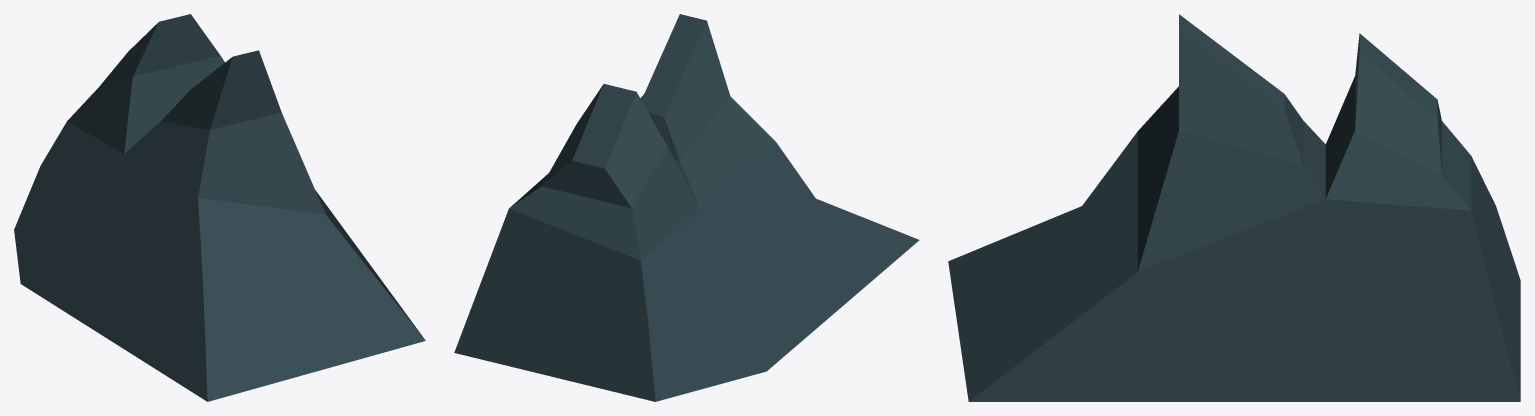
The model's file is rock 2.fbx.
3 views of the same model, side by side, from view 1: azimuth 30°, elevation 25°; view 2: azimuth 150°, elevation 25°; view 3: azimuth 270°, elevation 25° (orthographic). The views are drawn at different scales.
Visible parts, largest first — view 1: Cube; view 2: Cube; view 3: Cube.
Boxes of the visible parts, left/top/right/bottom form: Cube: left=14, top=14, right=425, bottom=401; Cube: left=454, top=14, right=919, bottom=401; Cube: left=948, top=14, right=1520, bottom=401.
Bounding box in the file's own units: 384 × 375 × 609.
